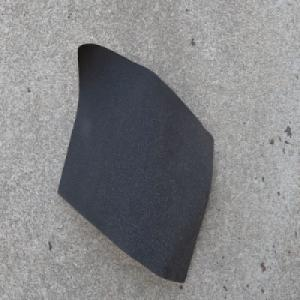PaintChip: (57, 43, 215, 284)
